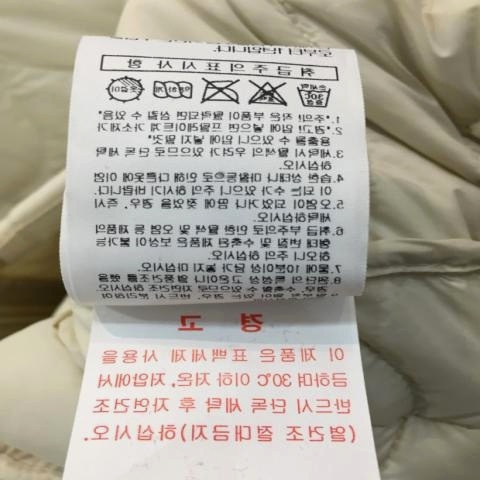DN_iron: (198, 74, 241, 105)
hand_wash: (294, 77, 334, 112)
line_dry_in_shade: (102, 72, 145, 105)
non_chlorine_bleach: (242, 73, 289, 108)
wring: (149, 77, 194, 102)
